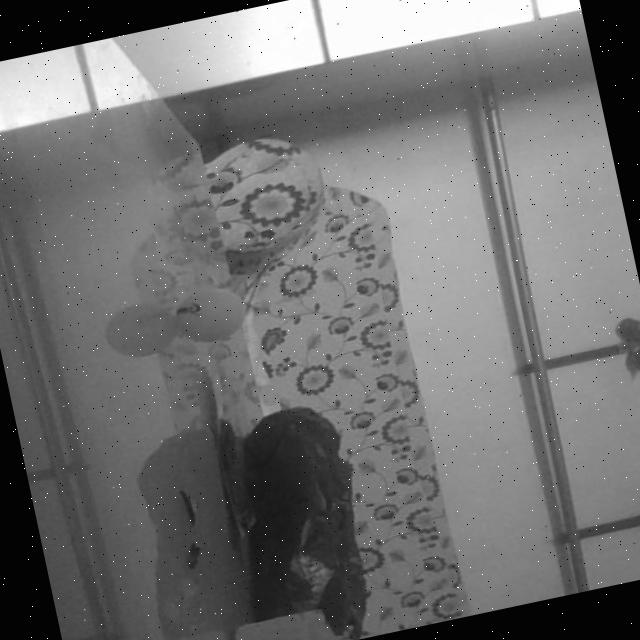ping-pong-ball: (169, 282, 248, 346)
